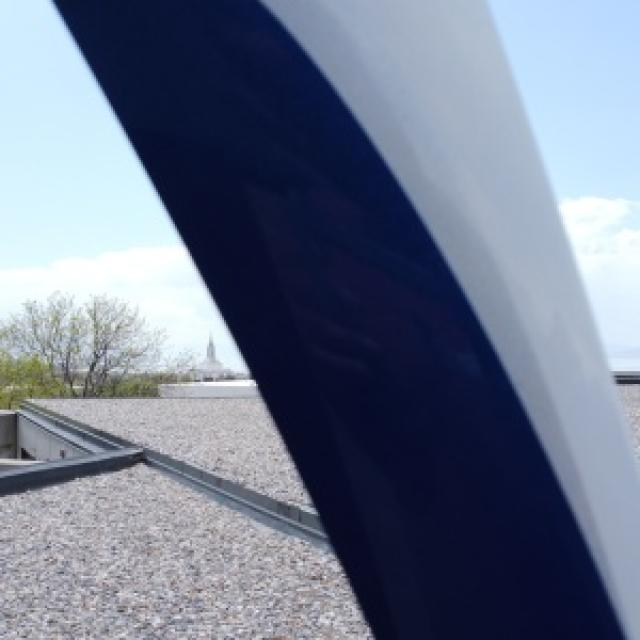healthy: (58, 0, 638, 638)
